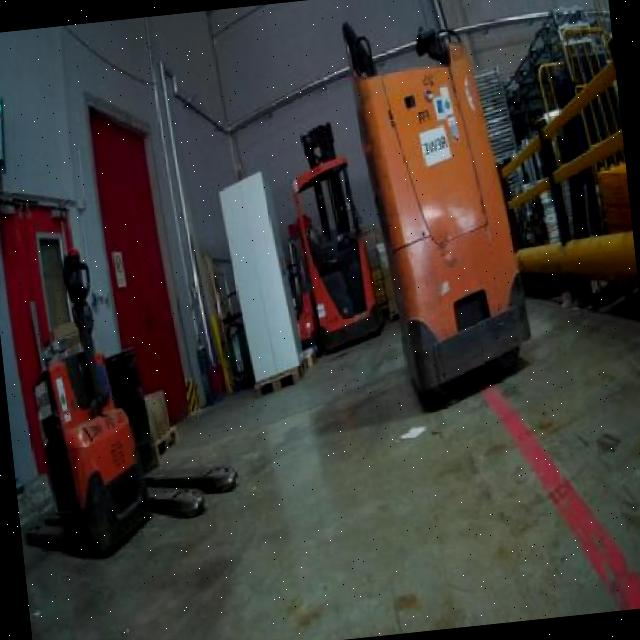pallet: (242, 342, 322, 408), (143, 418, 190, 472)
